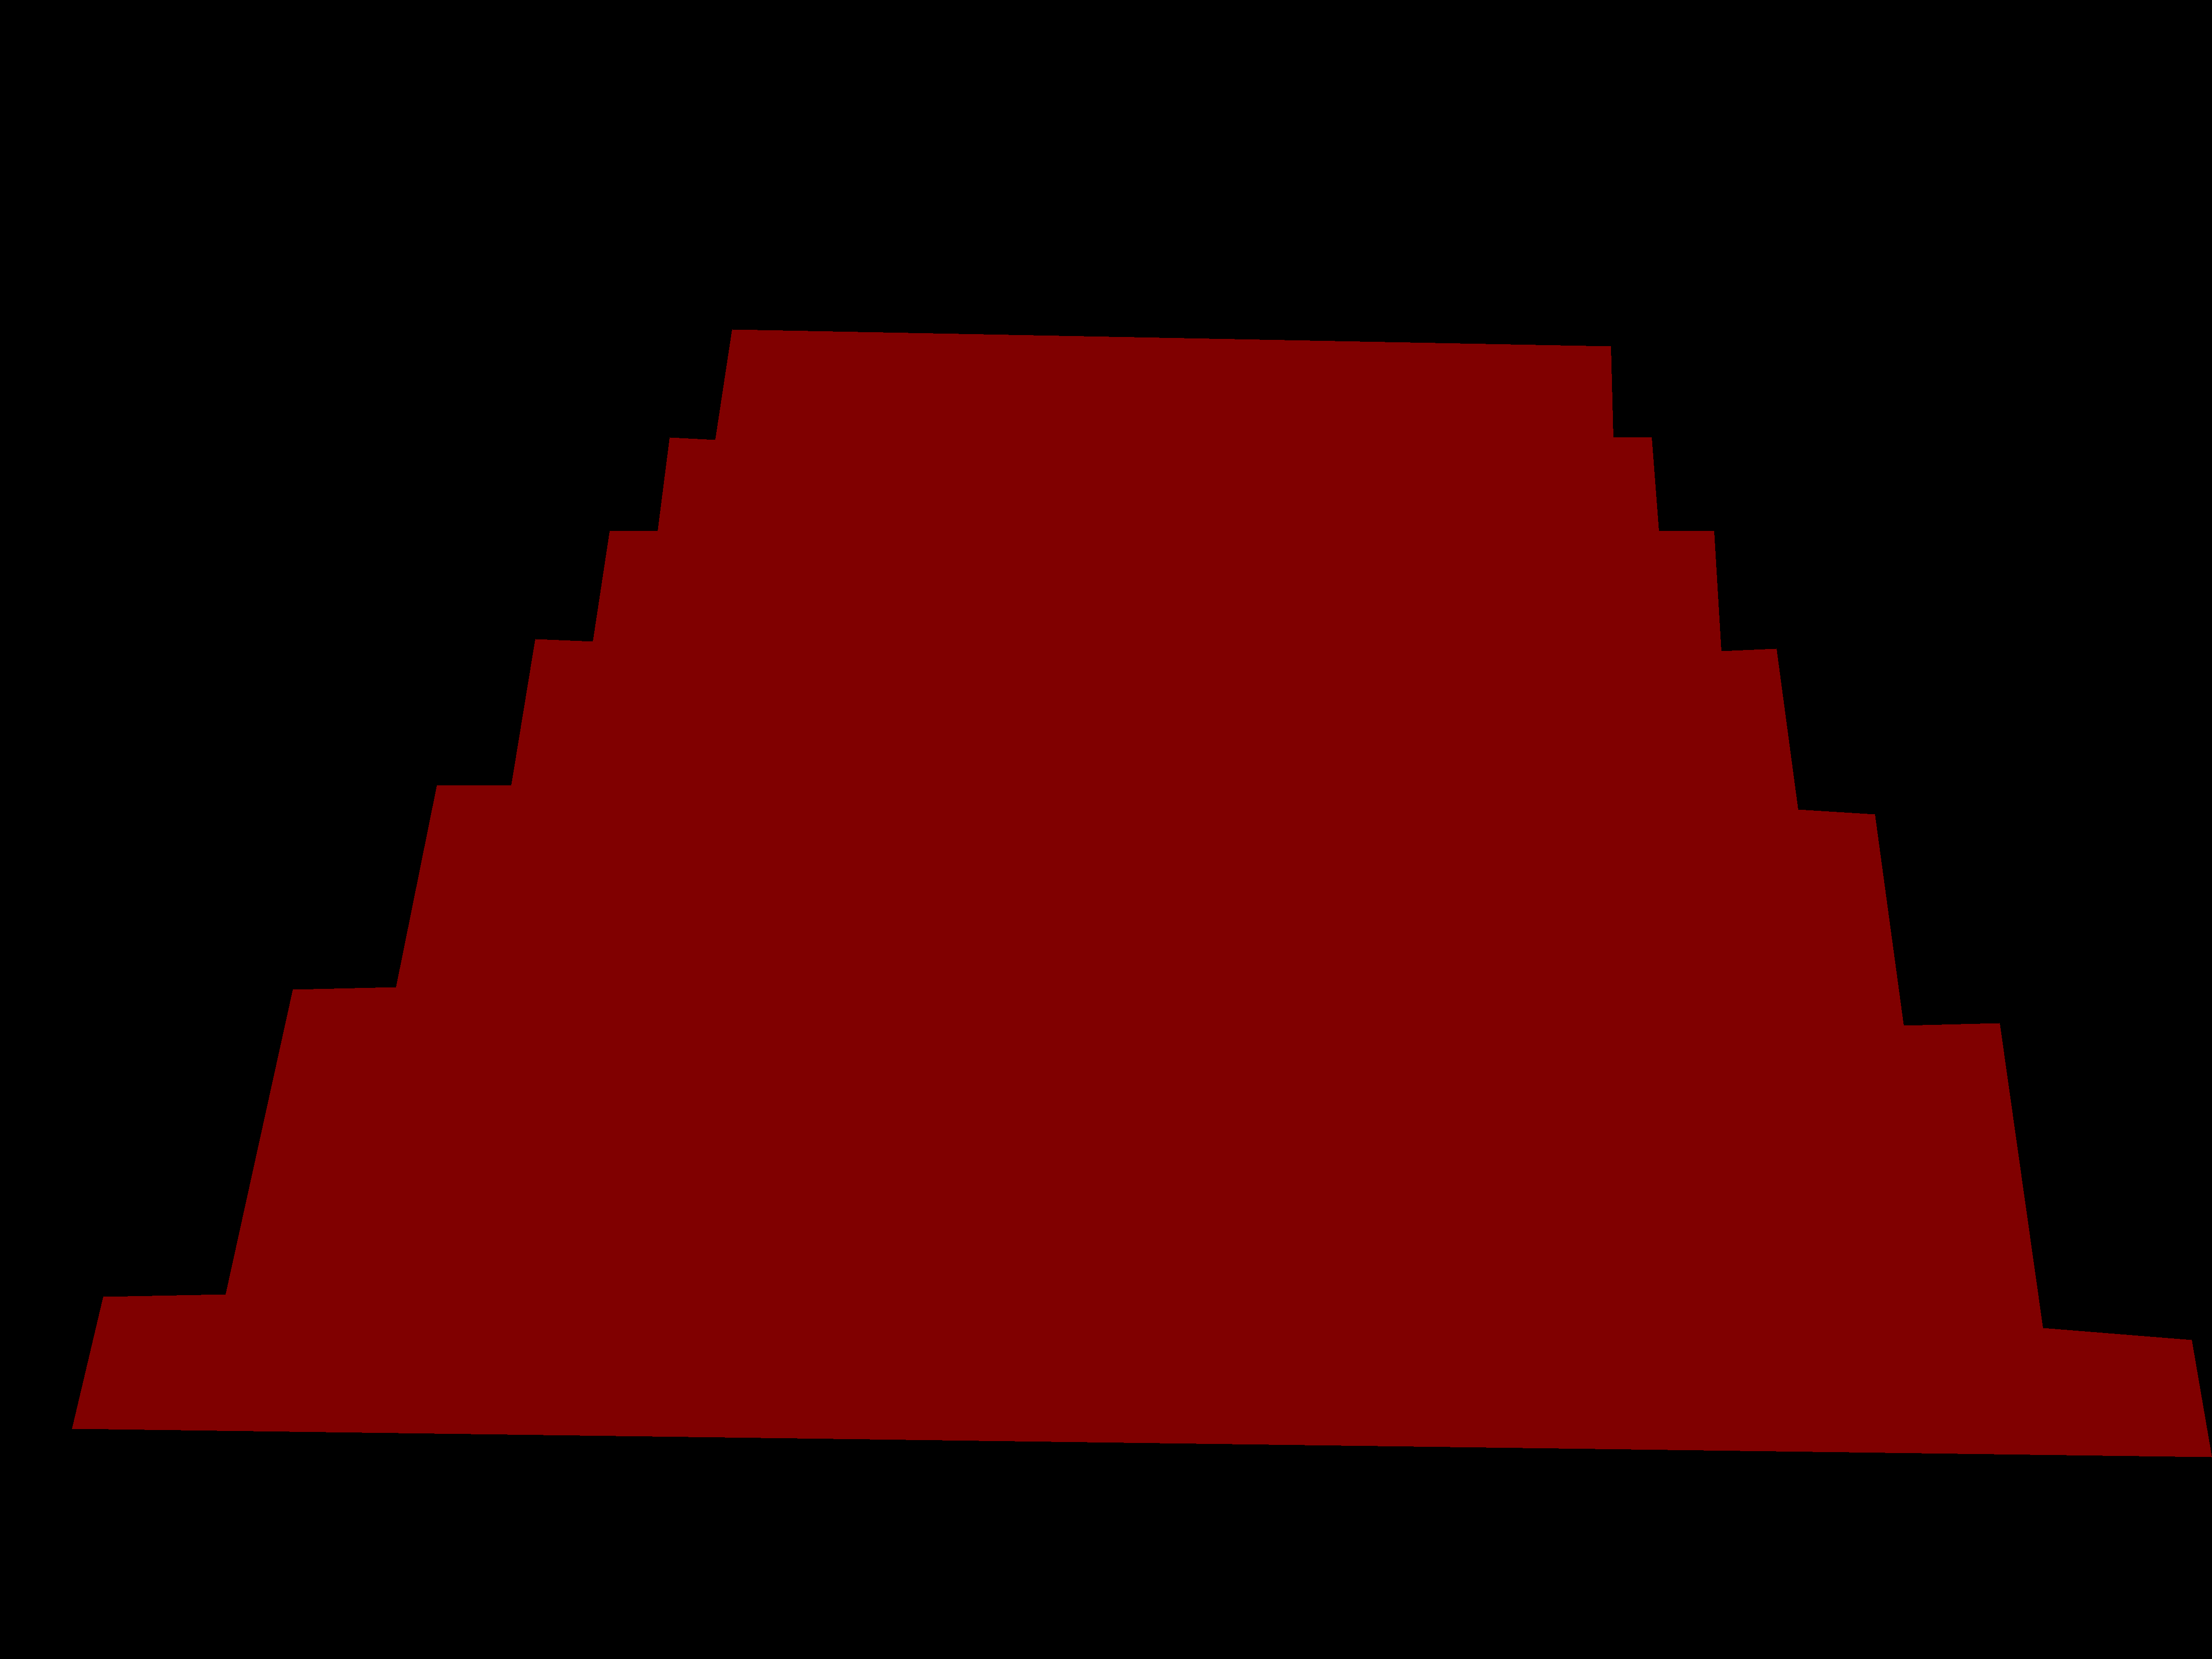stair: (71, 329, 2212, 1457)
